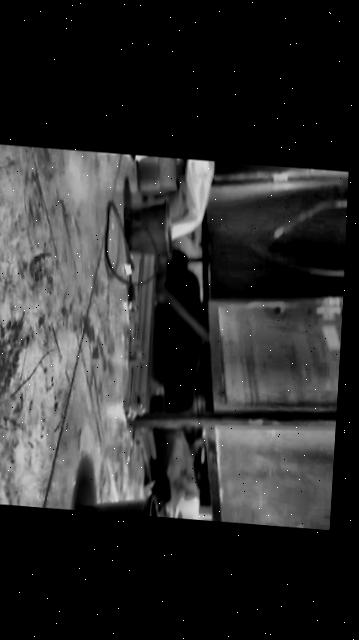pot: (74, 482, 158, 518)
